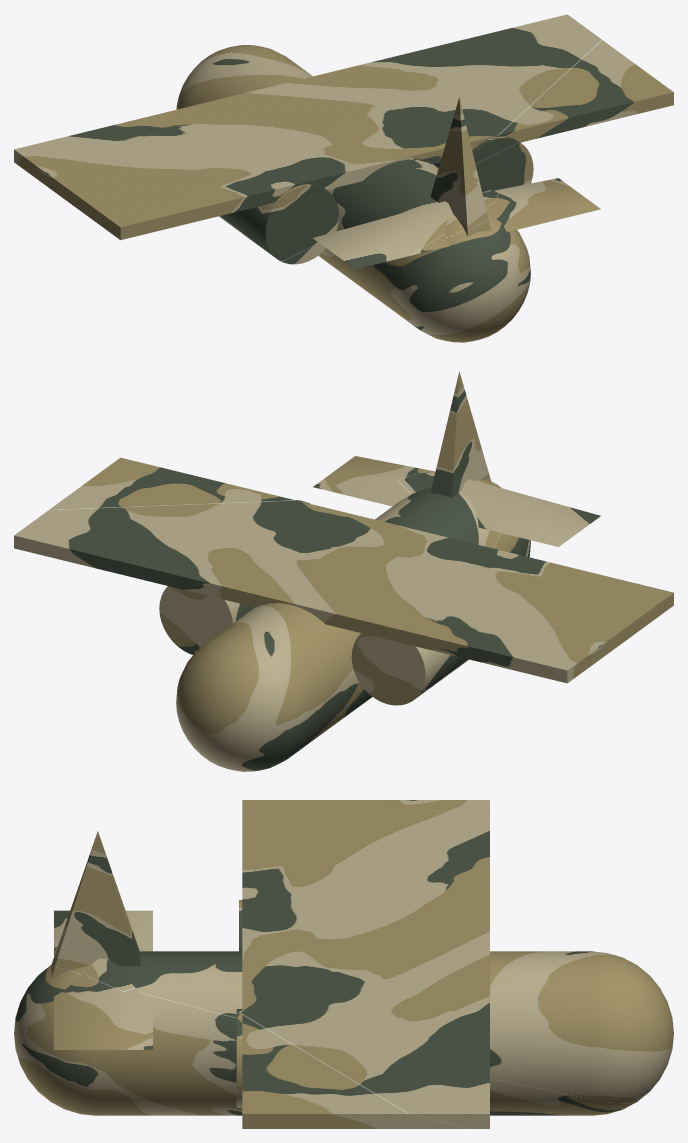
The model's file is Pioneer.fbx.
The picture shows the model from 3 angles, top to bottom: view 1: azimuth 30°, elevation 25°; view 2: azimuth 150°, elevation 25°; view 3: azimuth 270°, elevation 25°; orthographic projection. The views are drawn at different scales.
Visible parts, largest first — view 1: plane; view 2: plane; view 3: plane.
Boxes of the visible parts, bbox=[...] form: plane: bbox=[14, 14, 673, 342]; plane: bbox=[14, 371, 673, 771]; plane: bbox=[14, 800, 673, 1128].
Bounding box in the file's own units: 450 × 186 × 400.
1 material, 1 textured.
